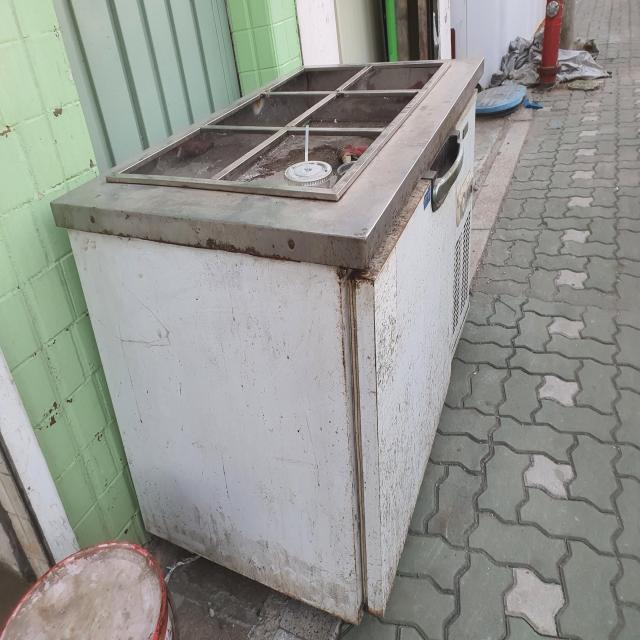refrigerator: (49, 56, 491, 626)
